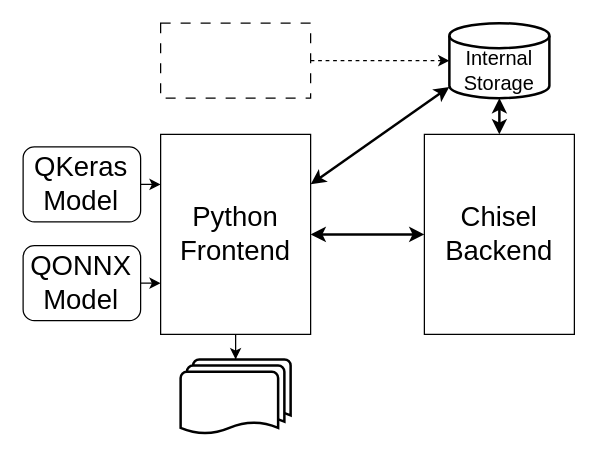
The diagram is 596 pixels wide and 456 high, and some of its shapes have lost their labels. The centre of each missing label's shape, as x and y in pixels:
GTKWave: (235,60)
Packaged Hardware: (235,396)
